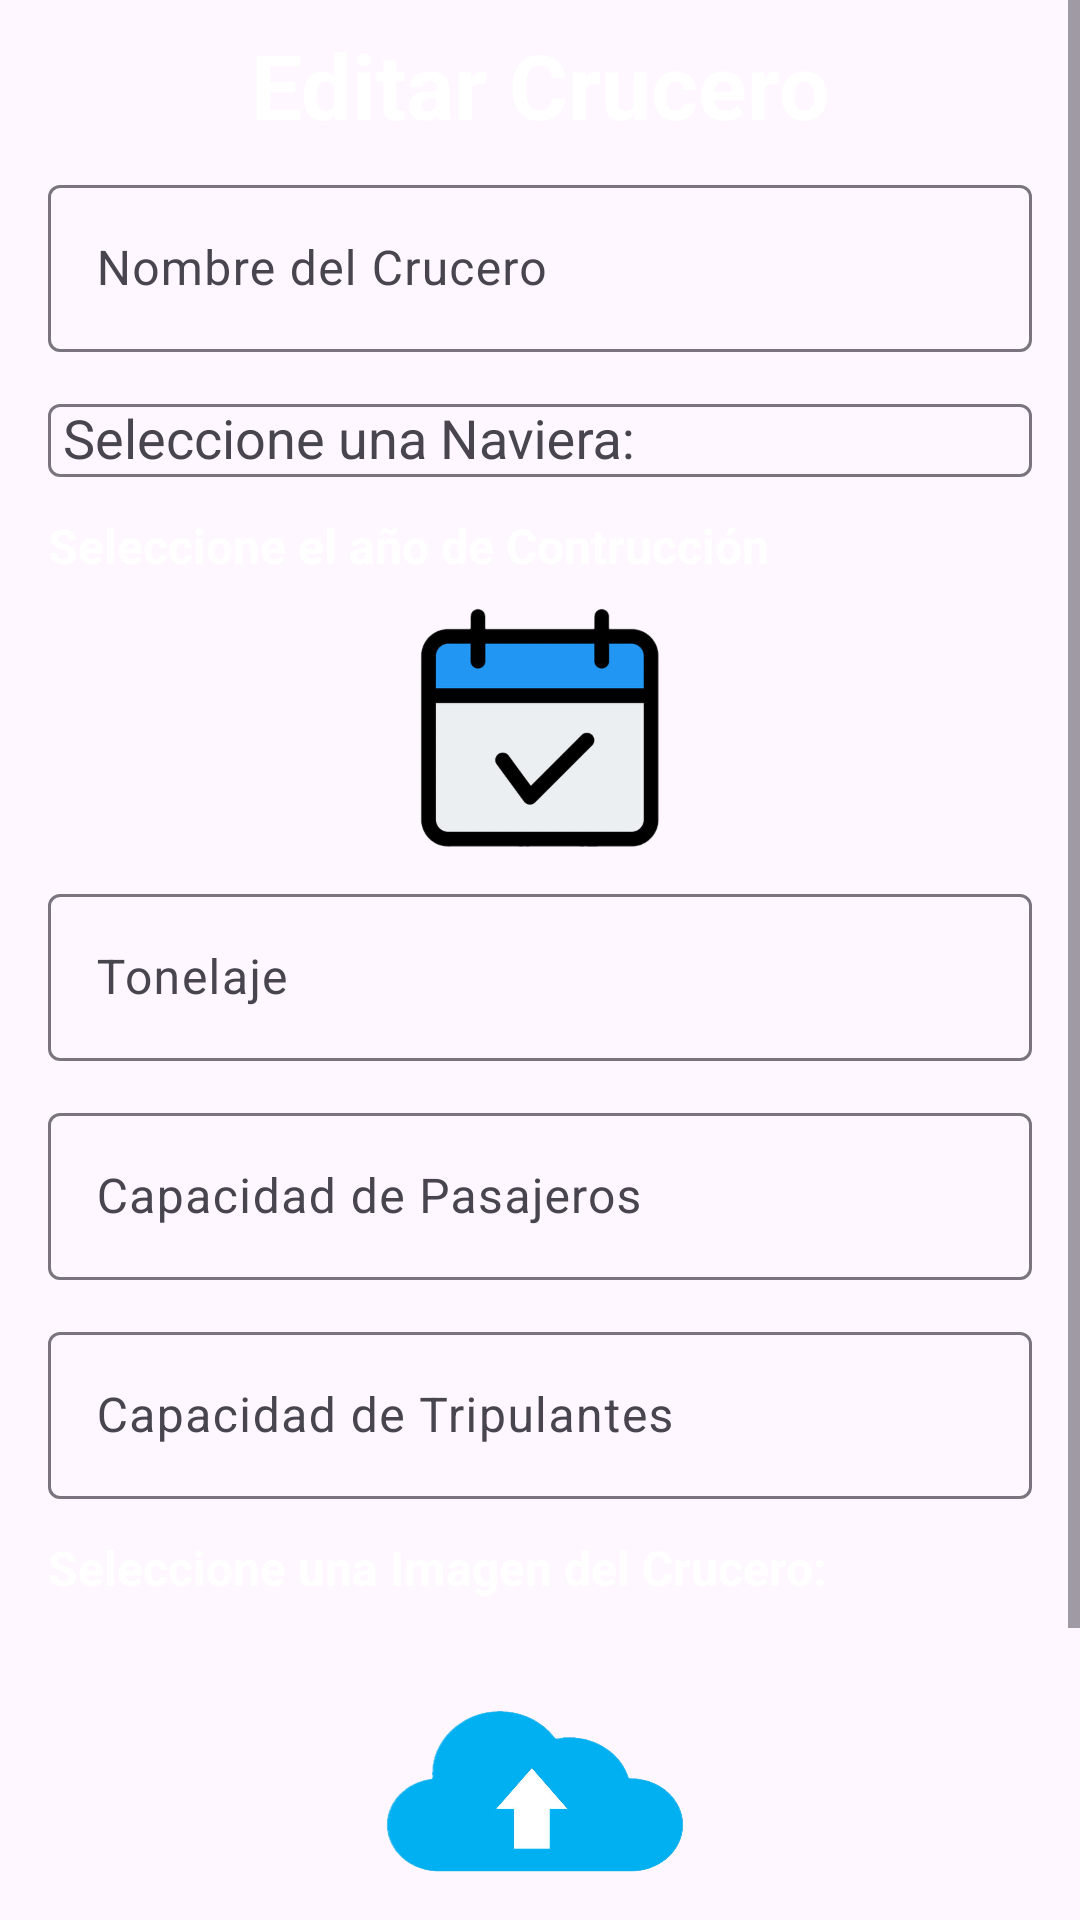

Icons on this 1080px x 1920px Android screen, each with the point to tap as point (x, y):
calendar: point (539, 727)
upload: point (535, 1791)
